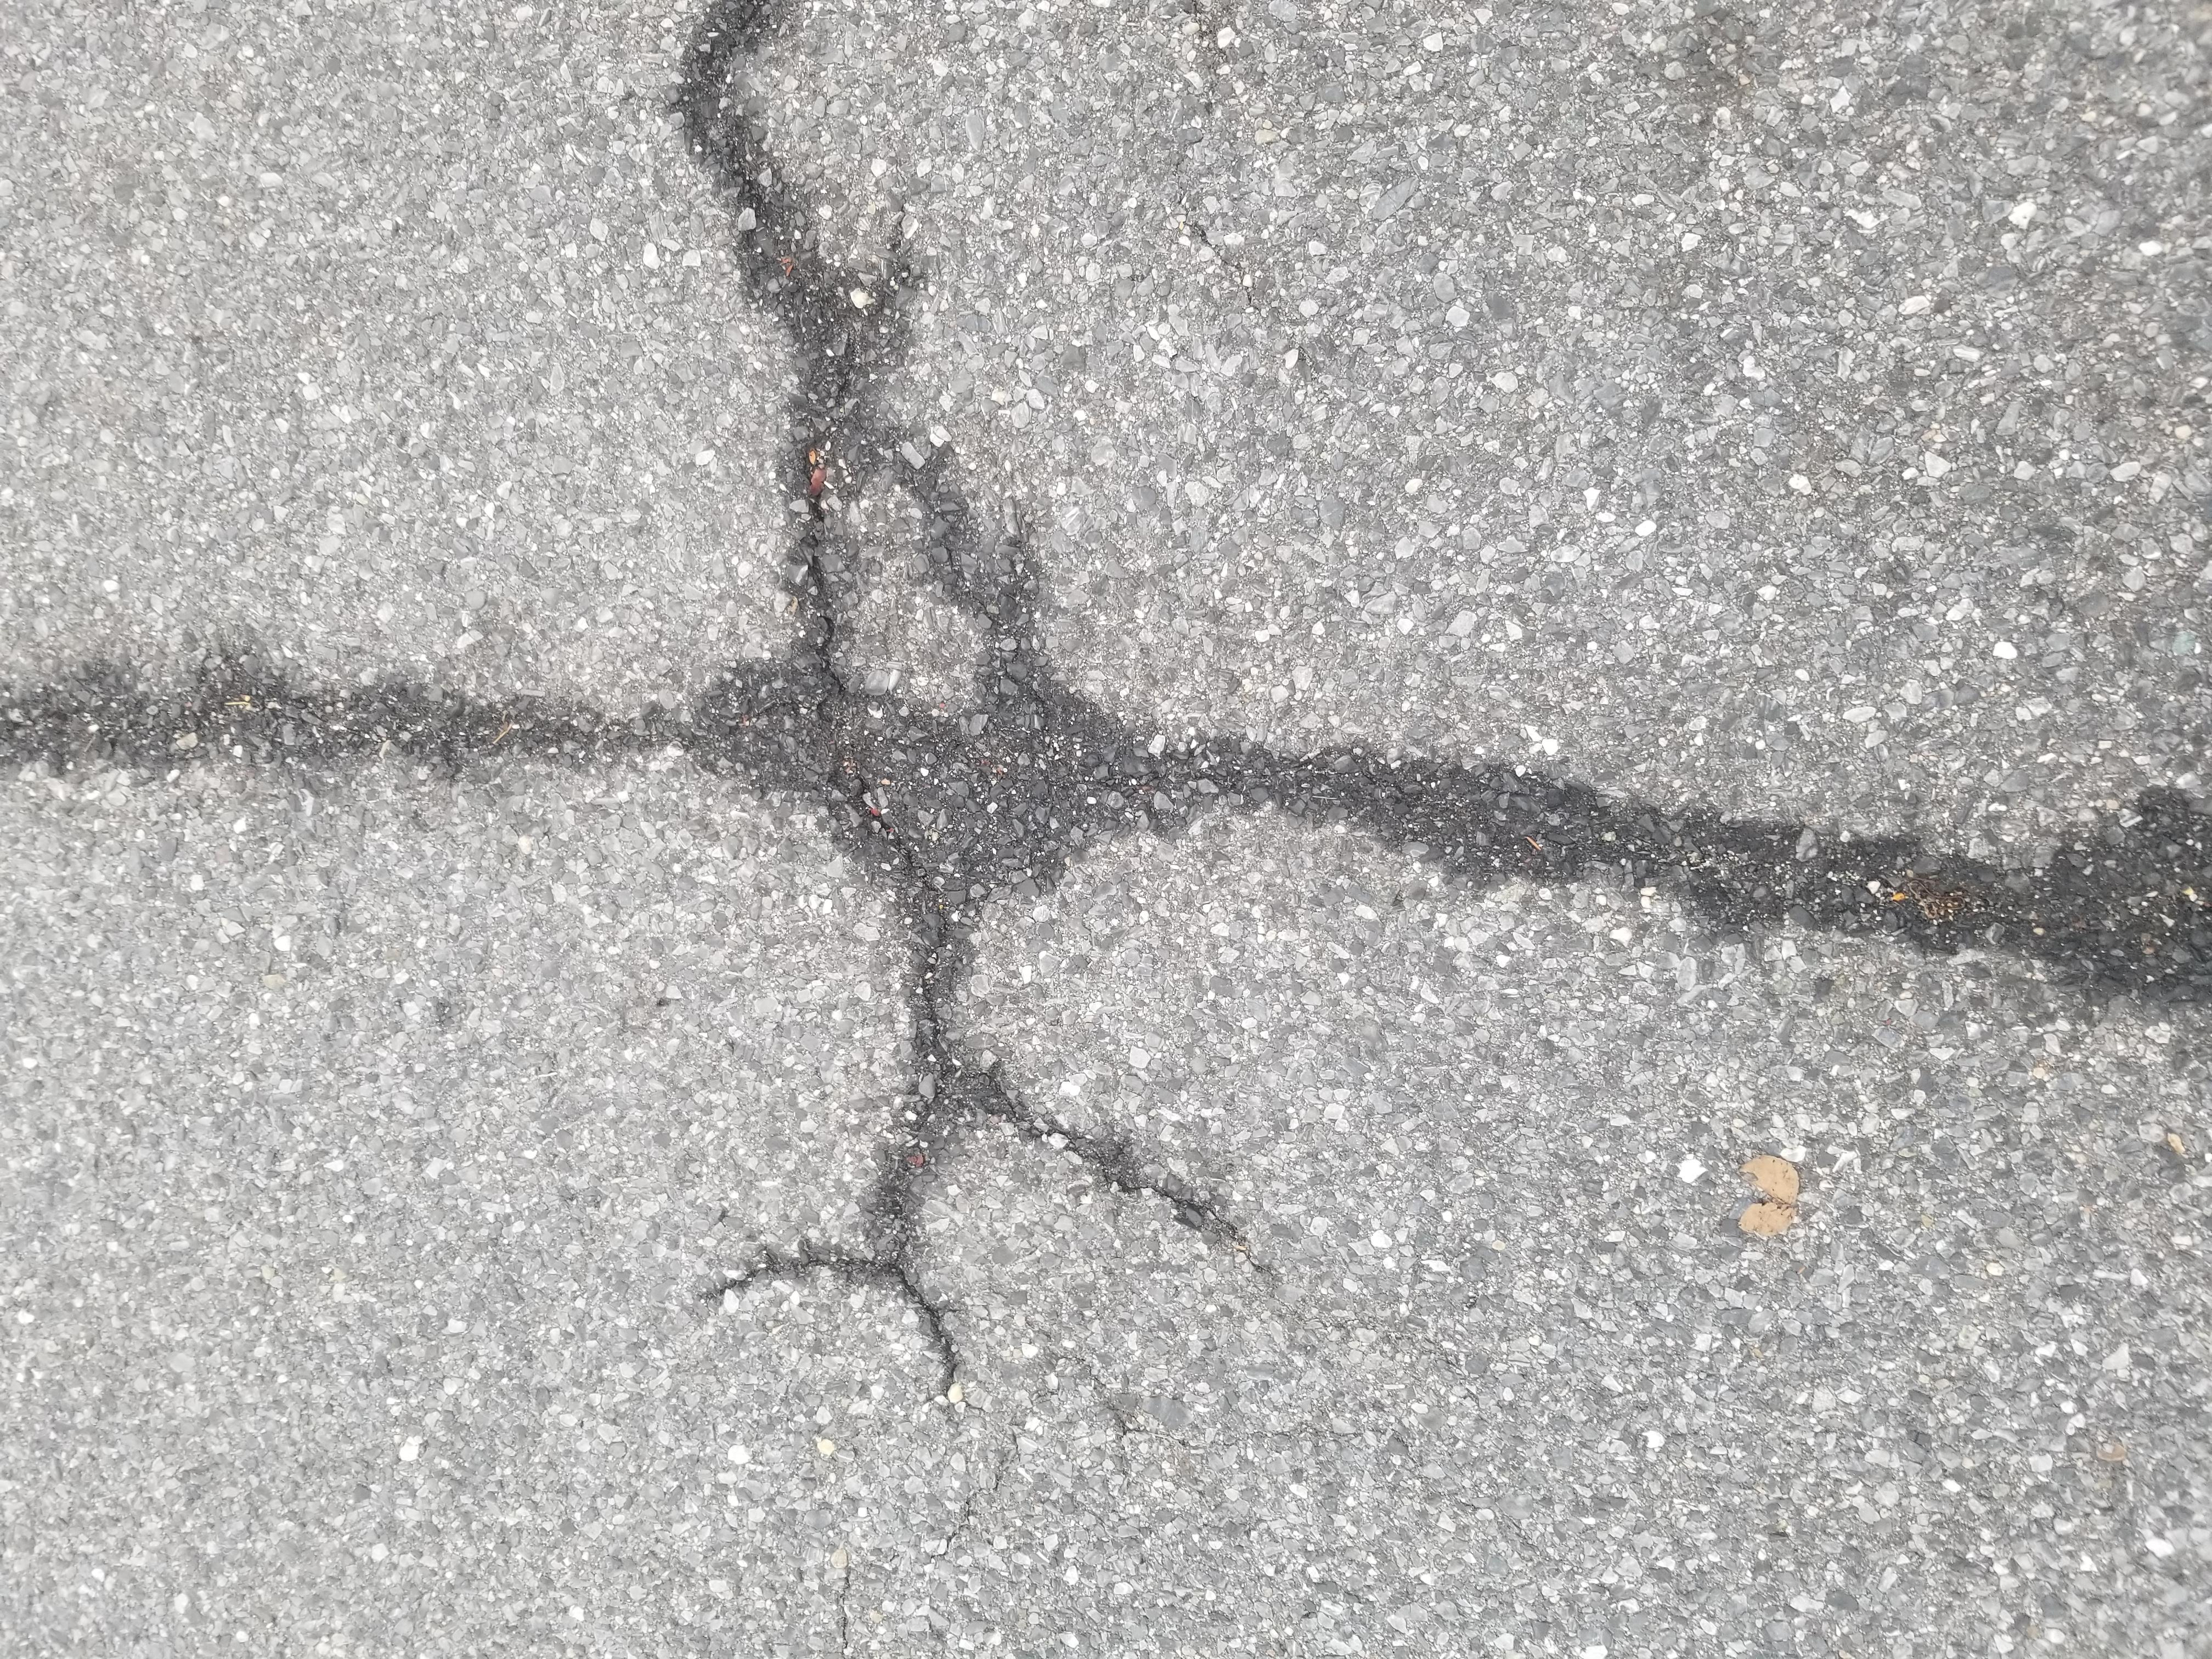crack: (260, 504, 2212, 911)
